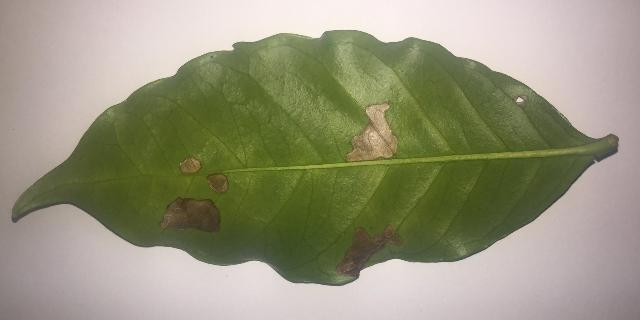cercospora: (337, 225, 401, 281), (346, 102, 397, 162), (160, 198, 220, 232), (207, 173, 228, 192), (180, 158, 201, 173), (516, 95, 526, 104)
